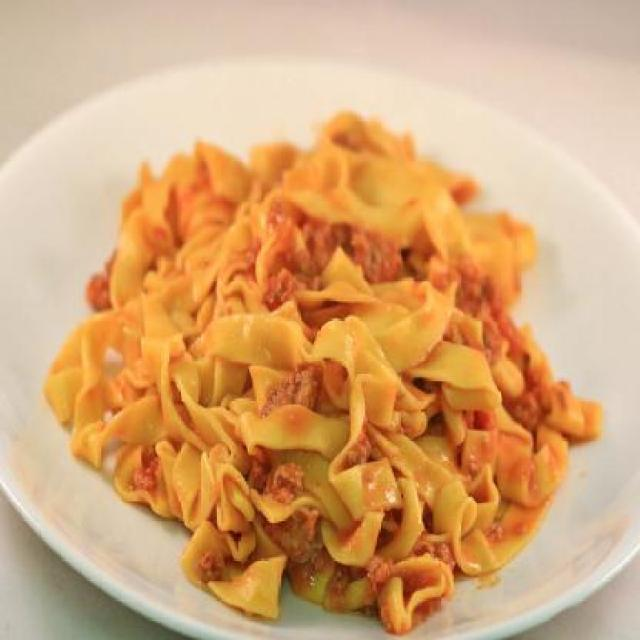Pasta al ragu: (77, 115, 596, 634)
